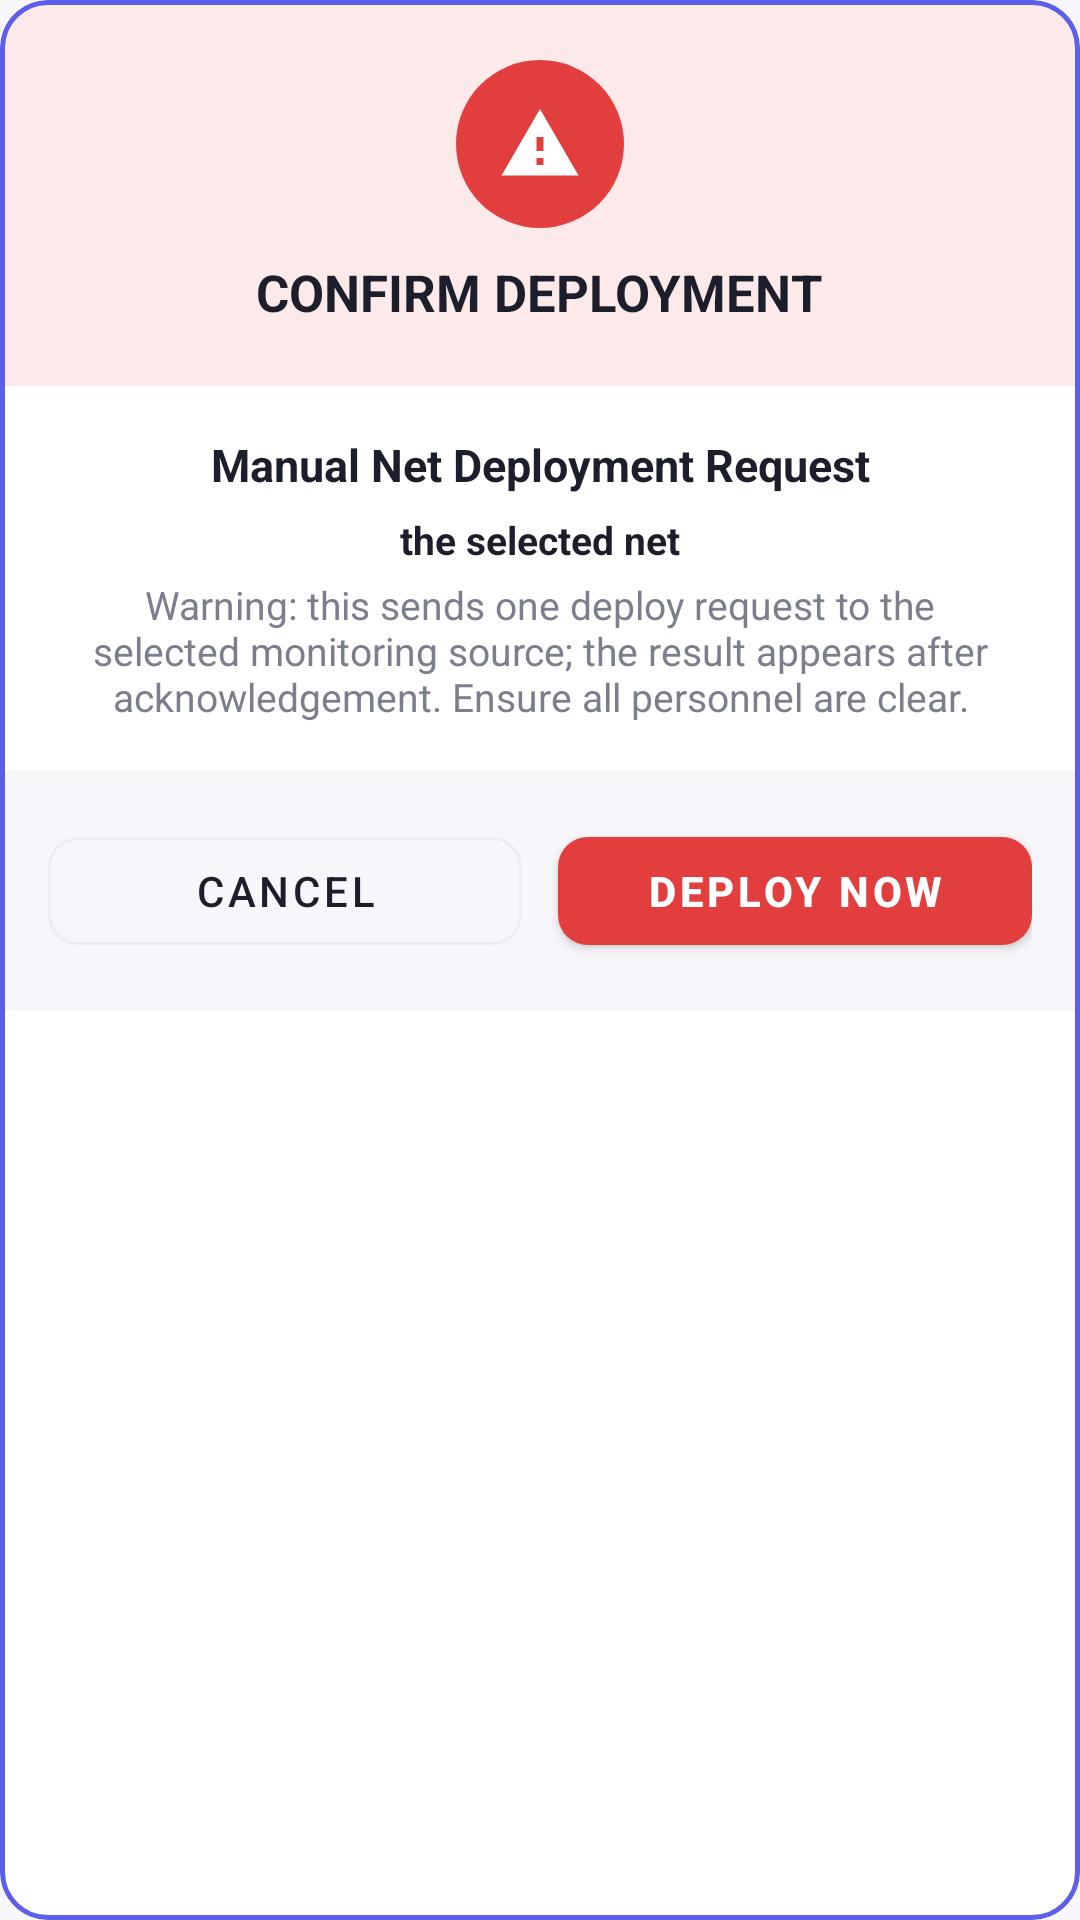

Locate icon controls on the screen. Image size 1080w x 1920h, boxes as (x1, y1, x2, y2).
warning: (456, 60, 624, 228)
